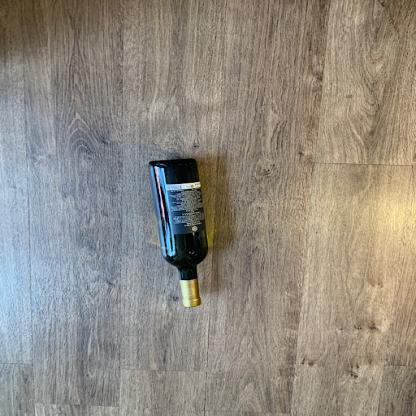trash: (144, 155, 214, 308)
